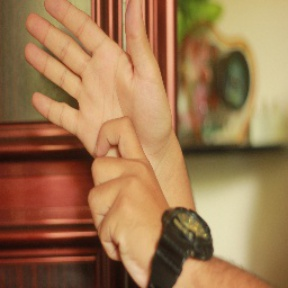R: (24, 1, 166, 246)
